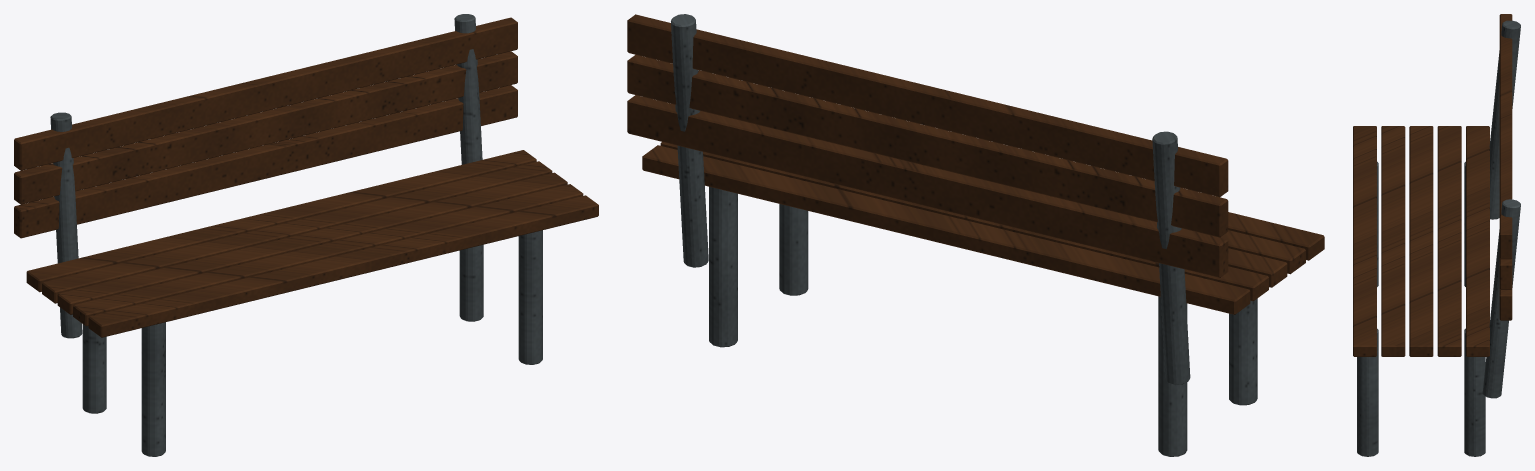
Rendered from PROP-94930BE6CE09_lod1.glb.
The picture shows the model from 3 angles, left to right: view 1: azimuth 30°, elevation 25°; view 2: azimuth 150°, elevation 25°; view 3: azimuth 270°, elevation 25°; orthographic projection. The views are drawn at different scales.
Visible parts, largest first — view 1: back_slats.002, seat_slats.002, bench_legs.002, back_support.002; view 2: back_slats.002, seat_slats.002, bench_legs.002, back_support.002; view 3: seat_slats.002, bench_legs.002, back_support.002, back_slats.002.
Part boxes in pixels (bbox=[...]): back_slats.002: bbox=[14, 17, 517, 238]; seat_slats.002: bbox=[26, 150, 598, 337]; bench_legs.002: bbox=[82, 230, 542, 456]; back_support.002: bbox=[50, 14, 482, 338]; back_slats.002: bbox=[627, 14, 1228, 277]; seat_slats.002: bbox=[642, 142, 1324, 314]; bench_legs.002: bbox=[709, 186, 1257, 456]; back_support.002: bbox=[671, 14, 1190, 385]; seat_slats.002: bbox=[1353, 126, 1489, 356]; bench_legs.002: bbox=[1357, 161, 1485, 456]; back_support.002: bbox=[1482, 20, 1520, 398]; back_slats.002: bbox=[1499, 14, 1512, 320].
Size of the model in its own units: 1.85 by 1 by 0.5953.
Materials: 2 (2 with a texture image).
